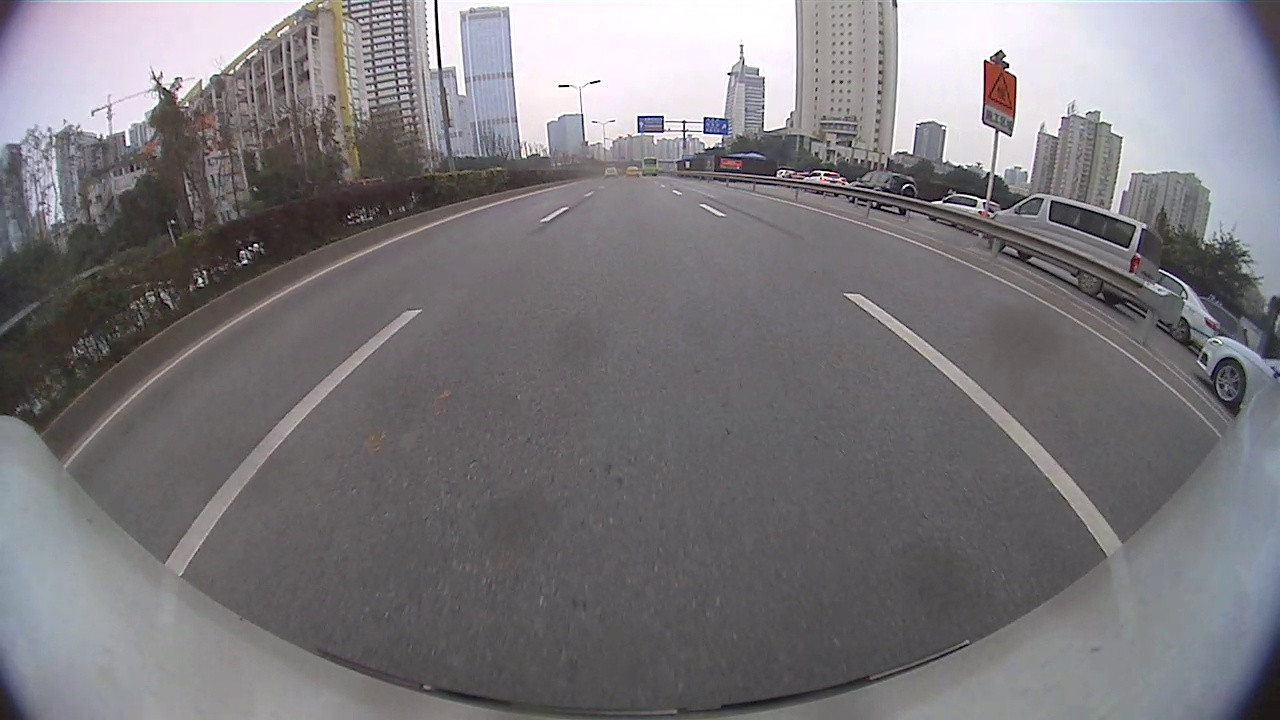car: (997, 190, 1165, 303), (1194, 334, 1279, 415), (1144, 268, 1219, 348), (846, 168, 918, 214), (1193, 296, 1246, 350), (927, 192, 999, 226), (804, 168, 842, 194)
front: (1211, 359, 1244, 410)
rear: (1077, 266, 1106, 298), (1169, 314, 1190, 346)
